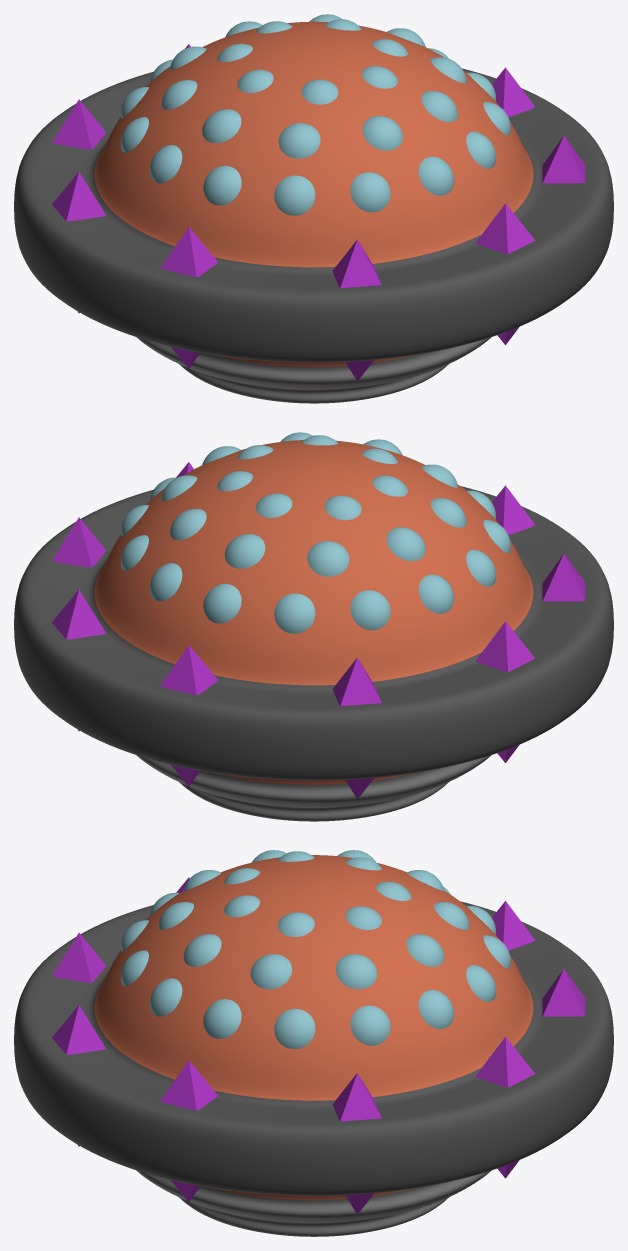
Rendered from Ufo_oderso_Mat.fbx.
3 renders of one model, top to bottom at view 1: azimuth 30°, elevation 25°; view 2: azimuth 150°, elevation 25°; view 3: azimuth 270°, elevation 25°, orthographic.
Visible parts, largest first — view 1: reihe_Fenster_mitte_1; view 2: reihe_Fenster_mitte_1; view 3: reihe_Fenster_mitte_1.
Boxes of the visible parts, box(x1,y1,x2,y2) form: reihe_Fenster_mitte_1: box(14, 14, 613, 403); reihe_Fenster_mitte_1: box(14, 432, 613, 821); reihe_Fenster_mitte_1: box(14, 850, 613, 1236).
Size of the model in its own units: 218 by 129 by 218.
